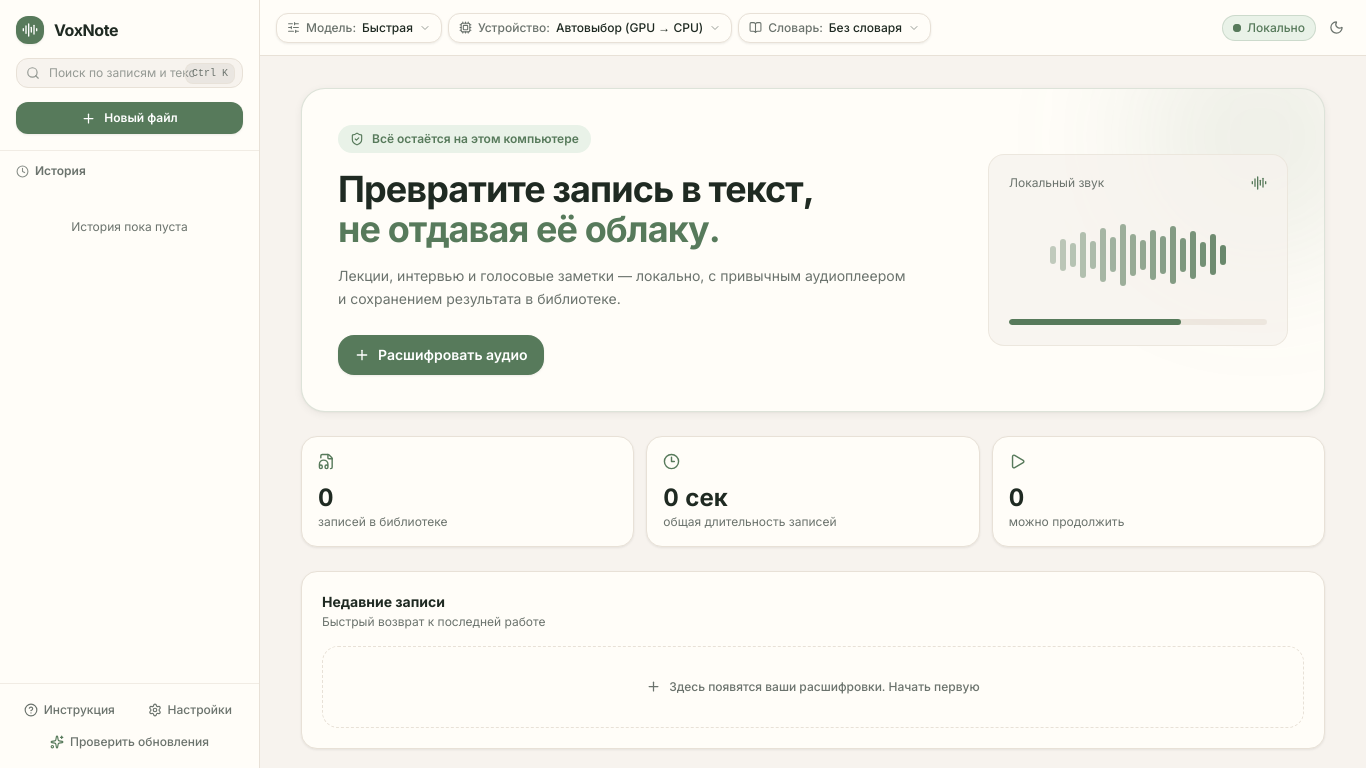
Scenario: VoxNote application smoke flows › opens on the home screen and moves to the new transcription screen
The image size is (1366, 768).
Expected: the heading "Превратите запись в текст, не отдавая её облаку." is shown, [338, 167, 814, 251]
Click the button "Расшифровать аудио": click(441, 354) [338, 334, 544, 374]
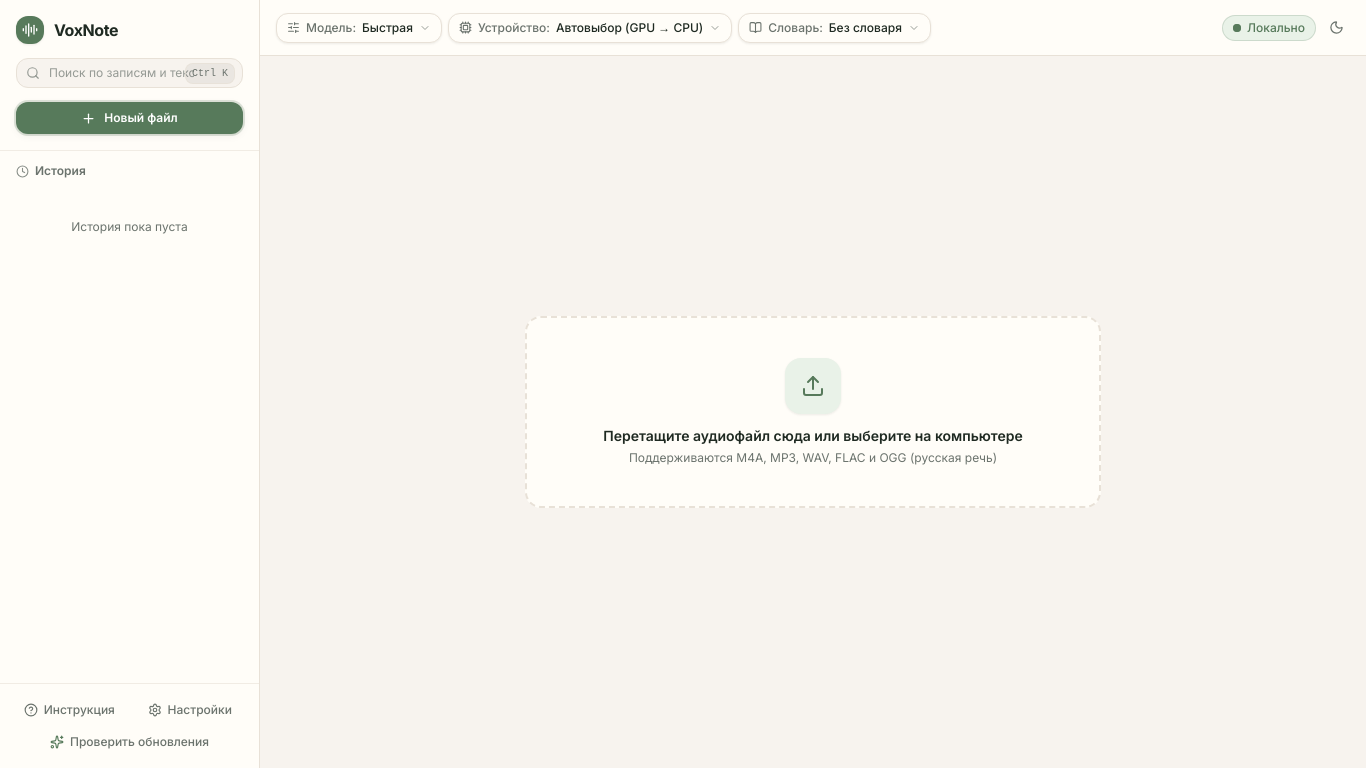
Result: the text "Перетащите аудиофайл сюда или выберите на компьютере" is shown at [603, 426, 1023, 446]
